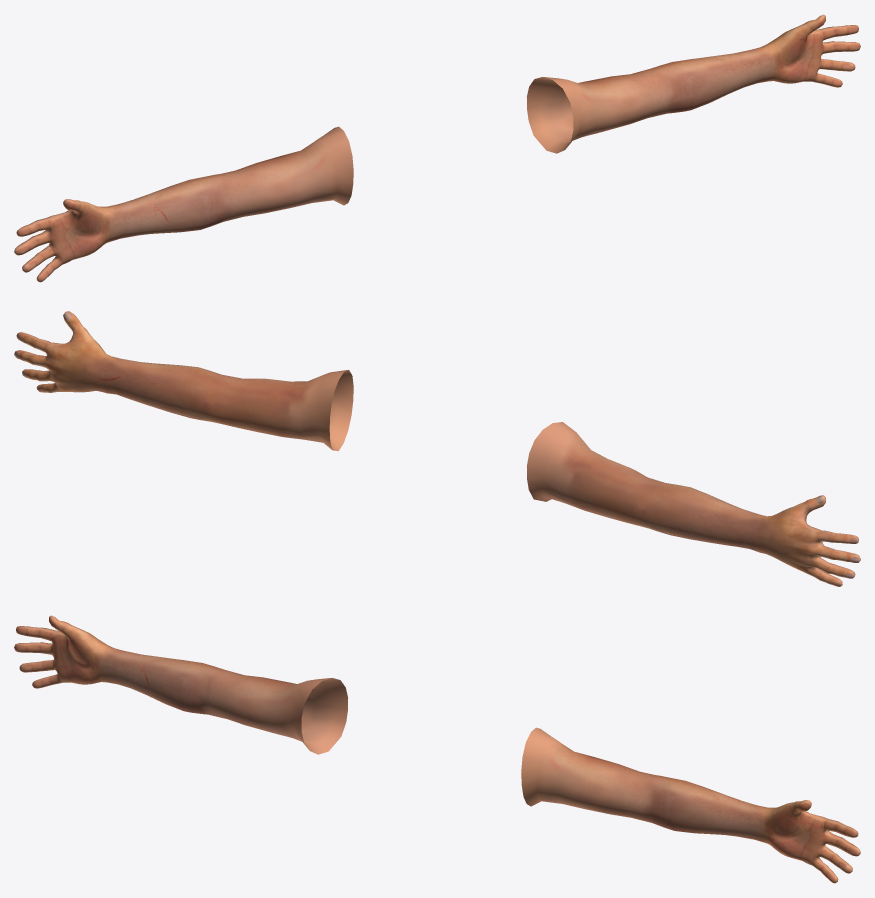
File: hends.fbx
3 views of the same model, one above another, from view 1: azimuth 30°, elevation 25°; view 2: azimuth 150°, elevation 25°; view 3: azimuth 330°, elevation 25° (orthographic).
Visible parts, largest first — view 1: hands_all; view 2: hands_all; view 3: hands_all.
Boxes of the visible parts, left/top/right/bottom form: hands_all: left=14, top=14, right=860, bottom=282; hands_all: left=14, top=311, right=860, bottom=586; hands_all: left=14, top=615, right=860, bottom=883.
Size of the model in its own units: 183 by 17.62 by 14.6.
1 material, 1 textured.
